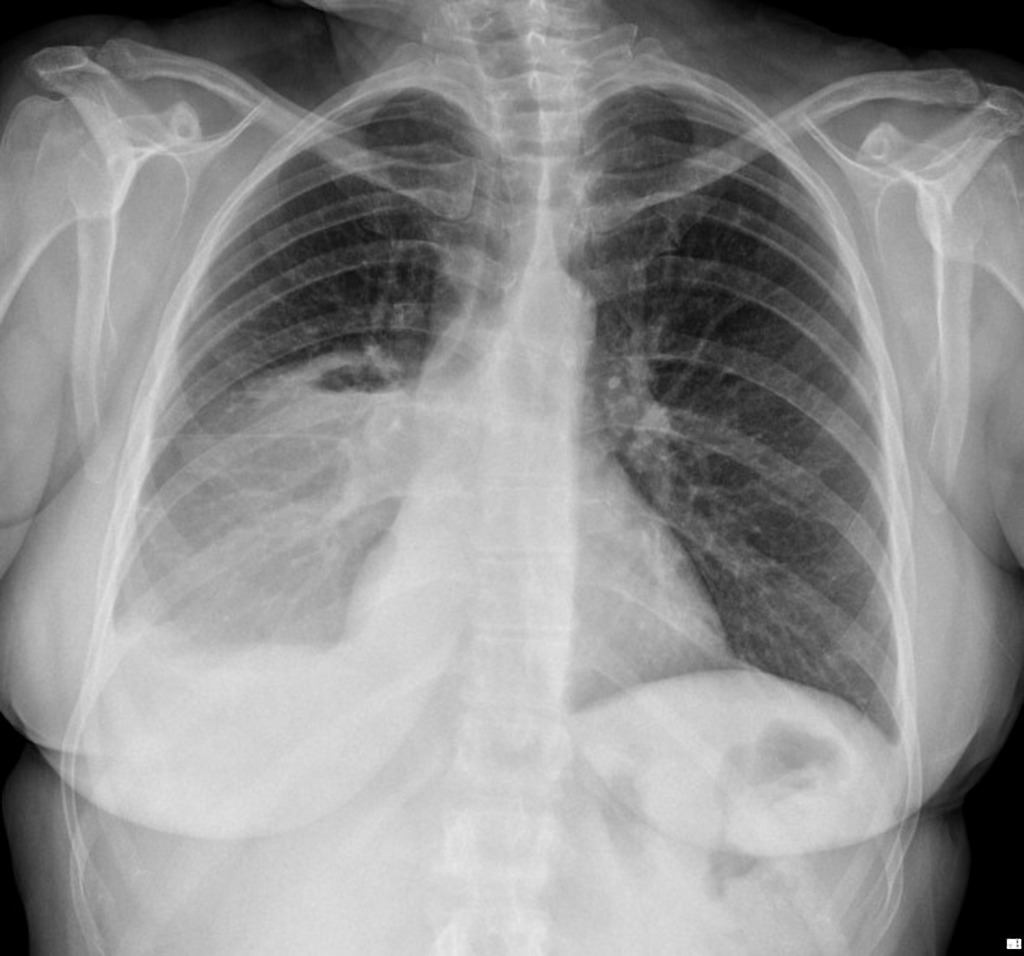cancer: (137, 244, 451, 686)
